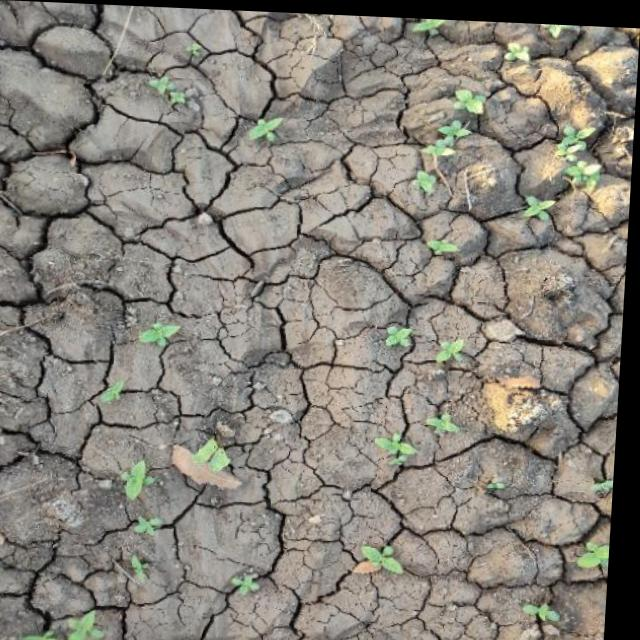crop: (115, 449, 183, 607), (408, 70, 489, 200), (93, 307, 187, 416), (378, 398, 470, 461), (549, 113, 604, 197), (385, 315, 478, 362), (353, 531, 418, 582), (247, 106, 293, 144)
